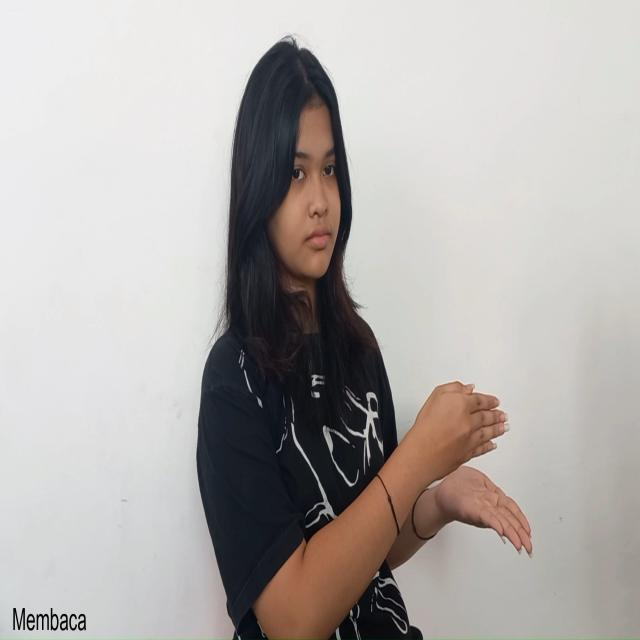Membaca -BISINDO-: (412, 377, 534, 555)
